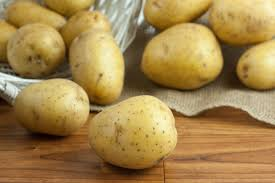potato: (92, 96, 183, 173), (139, 28, 220, 85), (73, 29, 131, 101), (18, 84, 90, 136), (6, 22, 63, 71)
